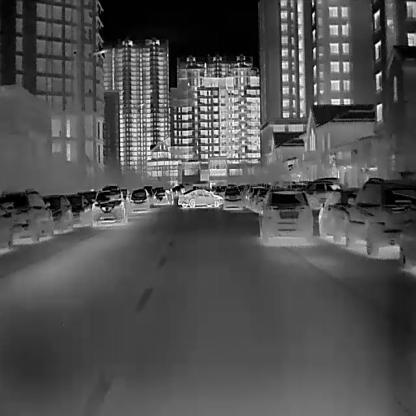car: (344, 175, 415, 256), (256, 189, 314, 246), (2, 188, 52, 241), (318, 187, 365, 242), (39, 194, 73, 235), (91, 188, 127, 226), (303, 180, 347, 208), (178, 187, 224, 209), (63, 194, 92, 226), (222, 185, 243, 211), (130, 186, 151, 211), (152, 189, 174, 205)
